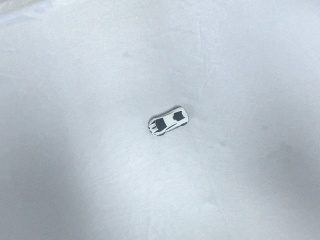toy_car: (146, 104, 191, 138)
